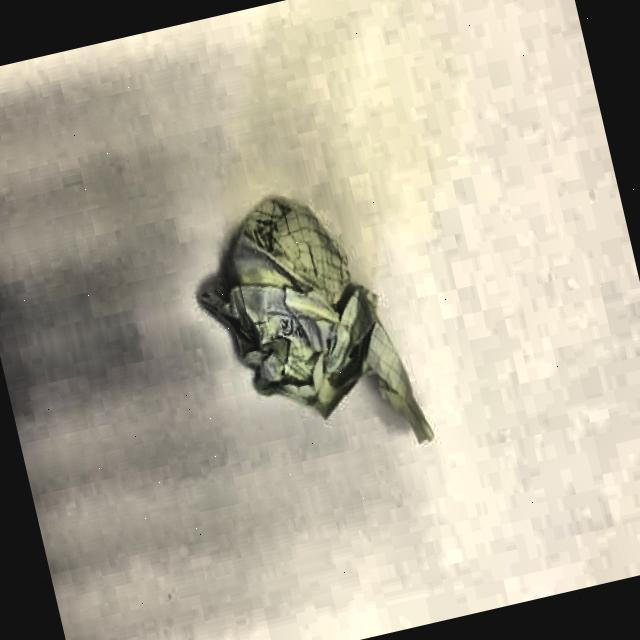paper: (190, 176, 442, 508)
